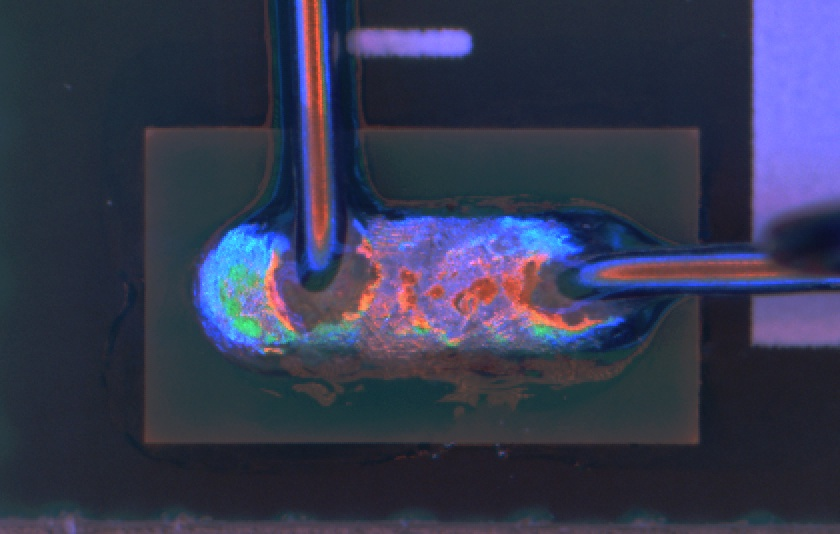spring: (536, 241, 840, 307), (283, 1, 351, 290)
spring_pin: (197, 216, 658, 360)
